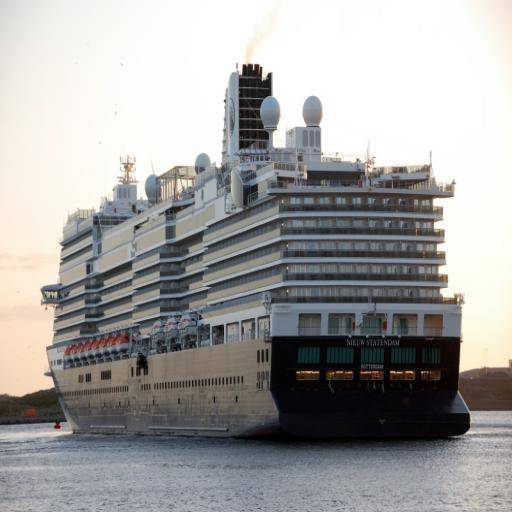cruises: (39, 56, 479, 448)
